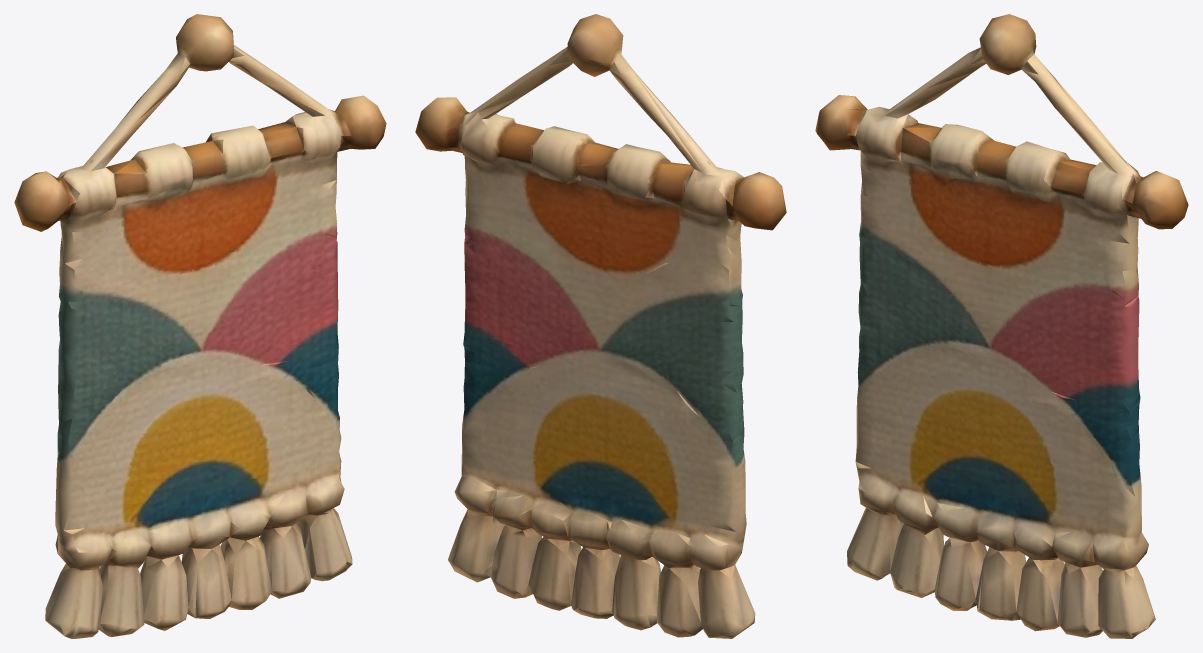
Rendered from wall05.glb.
3 renders of one model, left to right at view 1: azimuth 30°, elevation 25°; view 2: azimuth 150°, elevation 25°; view 3: azimuth 330°, elevation 25°, orthographic.
Bounding box in the file's own units: 0.2082 × 0.3279 × 0.0319.
1 material, 1 textured.
